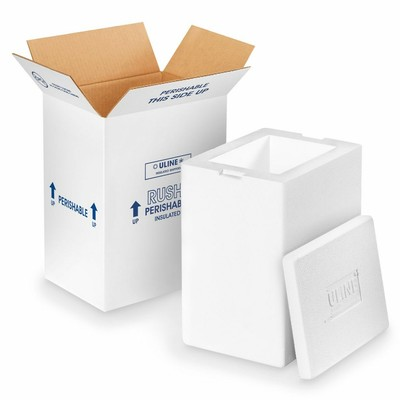泡沫箱: (176, 128, 362, 366)
